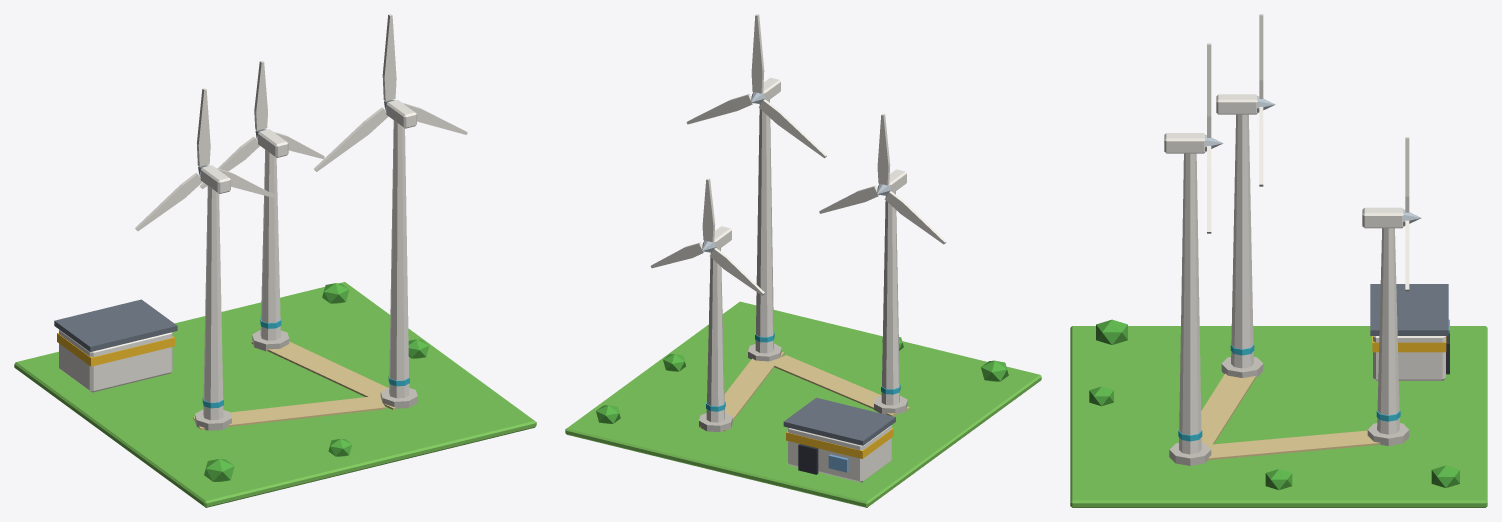
The model's file is kit-cidade-parque-eolico.glb.
3 views of the same model, side by side, from view 1: azimuth 30°, elevation 25°; view 2: azimuth 150°, elevation 25°; view 3: azimuth 270°, elevation 25° (orthographic). The views are drawn at different scales.
Visible parts, largest first — view 1: corpo, pas_1.001, pas_2.001, pas_3.001; view 2: corpo, pas_1.001, pas_2.001, pas_3.001; view 3: corpo, pas_1.001, pas_2.001, pas_3.001.
Boxes of the visible parts, left/top/right/bottom form: corpo: left=14, top=100, right=536, bottom=507; pas_1.001: left=314, top=14, right=467, bottom=171; pas_2.001: left=135, top=88, right=274, bottom=231; pas_3.001: left=200, top=61, right=324, bottom=188; corpo: left=565, top=77, right=1041, bottom=507; pas_1.001: left=686, top=14, right=826, bottom=158; pas_2.001: left=819, top=114, right=946, bottom=244; pas_3.001: left=650, top=178, right=764, bottom=295; corpo: left=1070, top=94, right=1487, bottom=507; pas_1.001: left=1205, top=43, right=1223, bottom=233; pas_2.001: left=1257, top=14, right=1275, bottom=186; pas_3.001: left=1403, top=137, right=1421, bottom=291.
Size of the model in its own units: 4 by 4.45 by 4.
